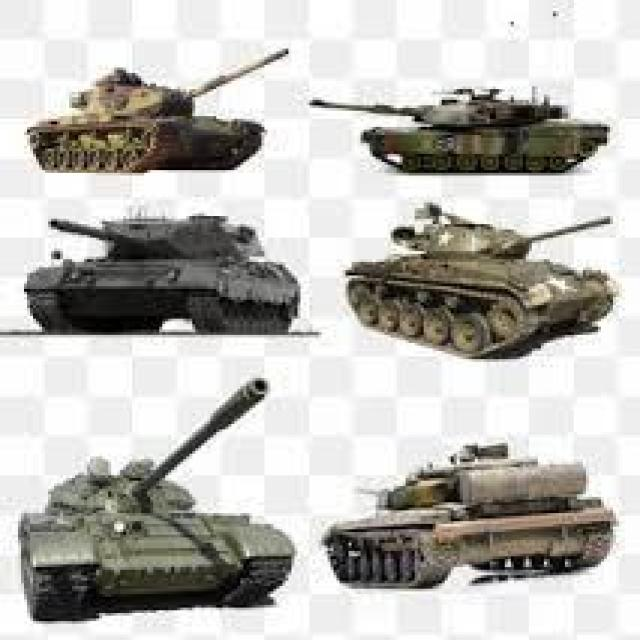Tanks: (21, 360, 301, 614), (311, 374, 575, 622), (26, 192, 317, 372), (33, 15, 301, 188), (317, 35, 569, 197), (326, 228, 575, 379)
